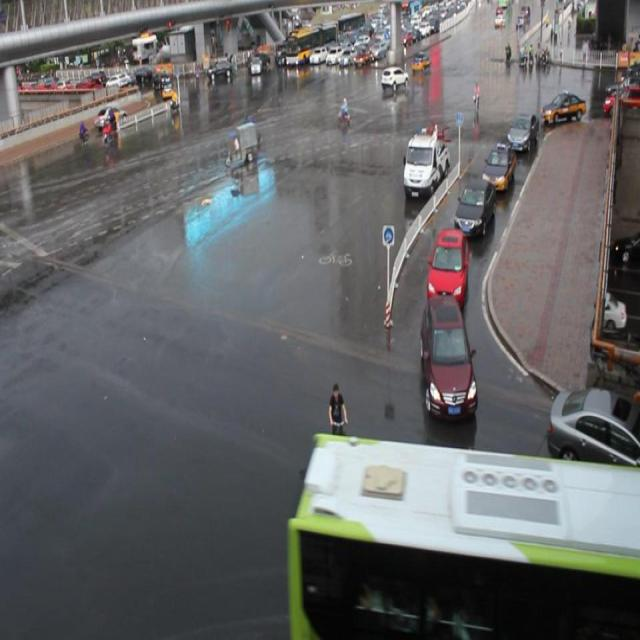bus: (402, 128, 450, 200)
car: (546, 386, 640, 472), (421, 293, 475, 418), (426, 227, 467, 309), (453, 176, 494, 235), (481, 142, 514, 188), (505, 111, 538, 150)
van: (286, 443, 640, 639)
